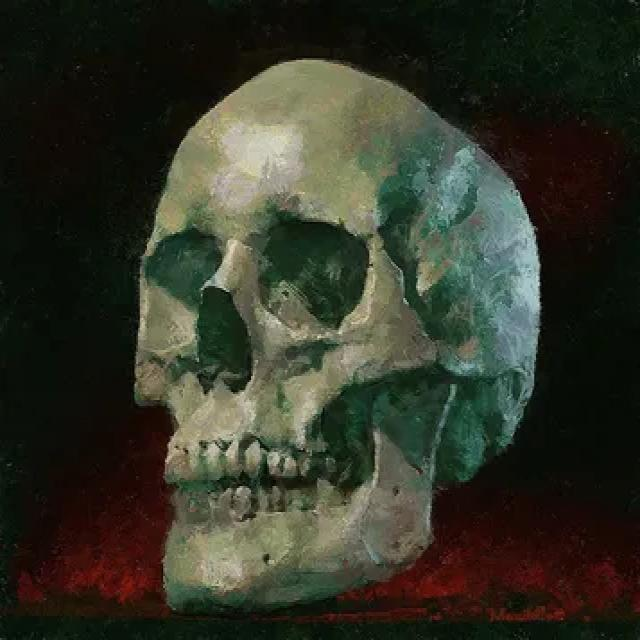skull: (124, 47, 551, 615)
